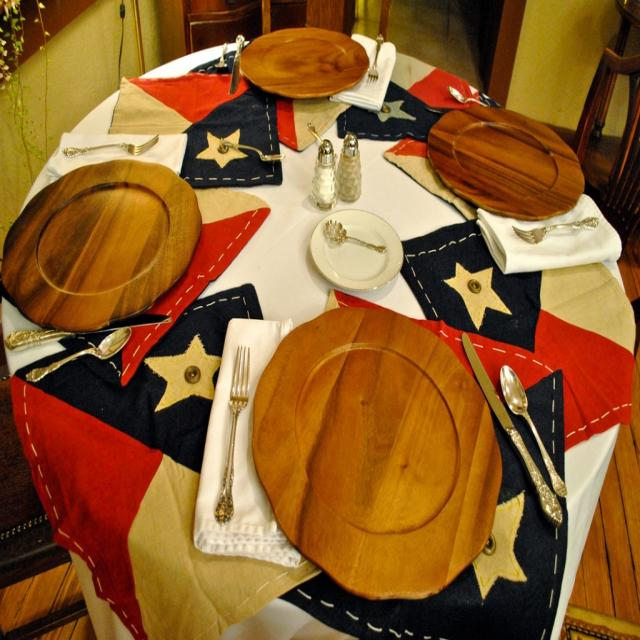non-organic waste: (248, 336, 498, 608), (0, 138, 238, 353), (411, 56, 584, 252), (235, 17, 388, 140), (304, 190, 402, 280)
